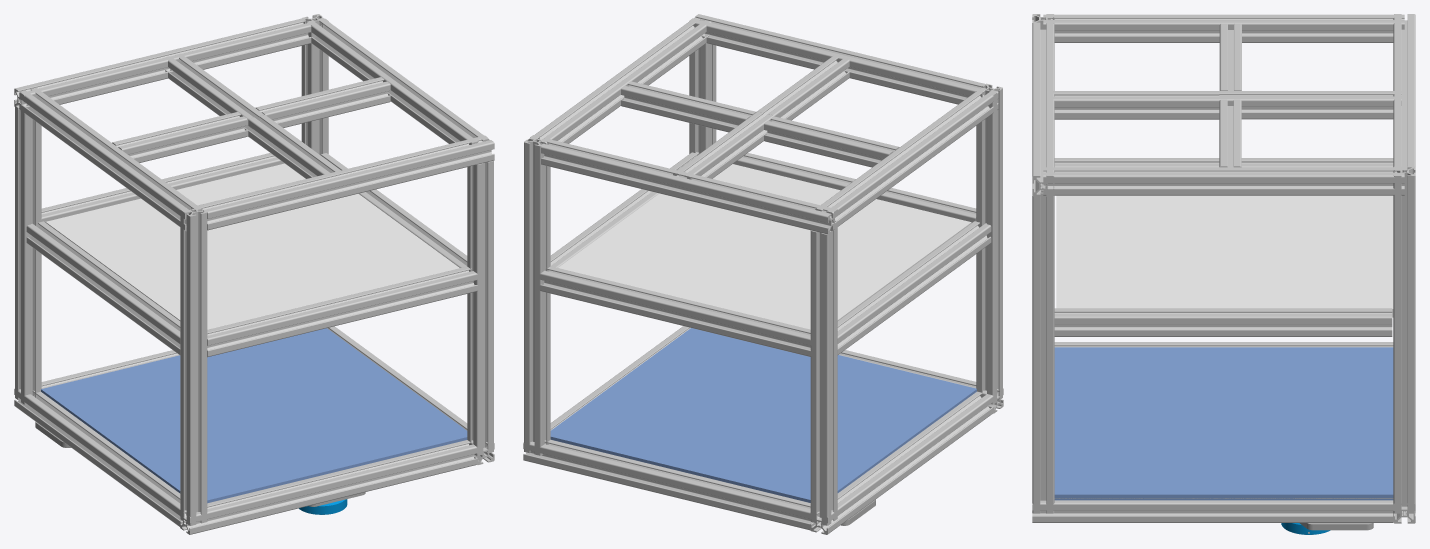
File: abv_v2.dae
The picture shows the model from 3 angles, left to right: view 1: azimuth 30°, elevation 25°; view 2: azimuth 150°, elevation 25°; view 3: azimuth 270°, elevation 25°; orthographic projection. The views are drawn at different scales.
Visible parts, largest first — view 1: Object.016, Object.003, Object.013, Object.091, Object, Object.009, Object.008, Object.001, Object.010, Object.018, Object.019, Object.004 (+10 smaller); view 2: Object.016, Object.003, Object.010, Object.001, Object.002, Object.022, Object.020, Object.013, Object.091, Object.018, Object.019, Object.004 (+10 smaller); view 3: Object.016, Object.003, Object.023, Object.006, Object.018, Object.012, Object.002, Object.008, Object.007, Object.011, Object.091, Object.001 (+5 smaller).
Part boxes in pixels (x1,y1,x2,y2): Object.016: (41, 328, 467, 503); Object.003: (45, 163, 459, 329); Object.013: (180, 205, 207, 525); Object.091: (198, 135, 494, 230); Object: (180, 440, 476, 534); Object.009: (207, 266, 478, 357); Object.008: (467, 160, 493, 455); Object.001: (14, 18, 311, 113); Object.010: (15, 107, 41, 404); Object.018: (19, 88, 202, 231); Object.019: (14, 388, 181, 526); Object.004: (26, 221, 180, 355); Object.016: (550, 328, 976, 502); Object.003: (558, 164, 971, 329); Object.010: (810, 228, 837, 525); Object.001: (541, 139, 837, 234); Object.002: (524, 135, 550, 455); Object.022: (523, 439, 812, 530); Object.020: (539, 266, 811, 356); Object.013: (976, 83, 1002, 404); Object.091: (689, 14, 984, 104); Object.018: (815, 87, 998, 230); Object.019: (810, 391, 993, 534); Object.004: (837, 221, 991, 354); Object.016: (1054, 347, 1393, 500); Object.003: (1056, 195, 1393, 317); Object.023: (1043, 167, 1404, 195); Object.006: (1054, 308, 1392, 336); Object.018: (1043, 14, 1404, 42); Object.012: (1032, 498, 1393, 522); Object.002: (1393, 166, 1415, 513); Object.008: (1032, 190, 1054, 513); Object.007: (1053, 91, 1219, 119); Object.011: (1219, 91, 1401, 119); Object.091: (1032, 23, 1054, 196); Object.001: (1393, 14, 1415, 169).
Bounding box in the file's own units: 0.3454 × 0.3439 × 0.3672.
